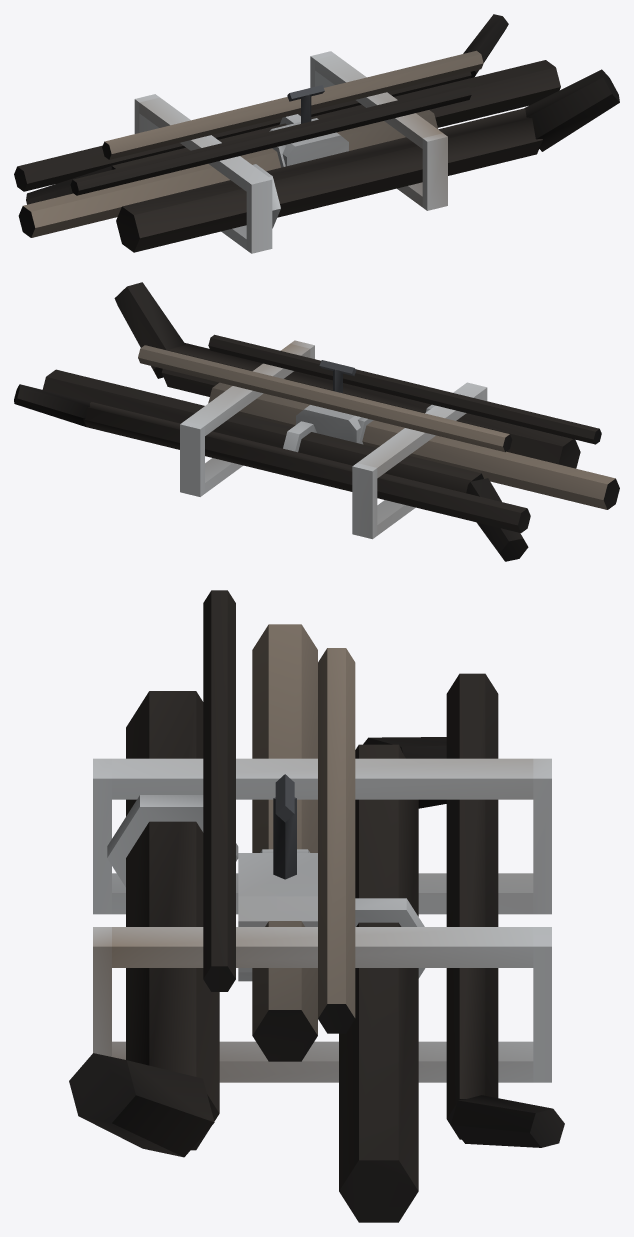
The model's file is debris_3.glb.
3 renders of one model, top to bottom at view 1: azimuth 30°, elevation 25°; view 2: azimuth 150°, elevation 25°; view 3: azimuth 270°, elevation 25°, orthographic. The views are drawn at different scales.
Parts seen in each view (by area): view 1: debris_3_mesh; view 2: debris_3_mesh; view 3: debris_3_mesh.
Boxes of the visible parts, x1,y1,x2,y2 form: debris_3_mesh: (14,14,619,253); debris_3_mesh: (14,282,619,561); debris_3_mesh: (69,590,564,1222).
Bounding box in the file's own units: 1.9 × 0.3692 × 0.7579.
